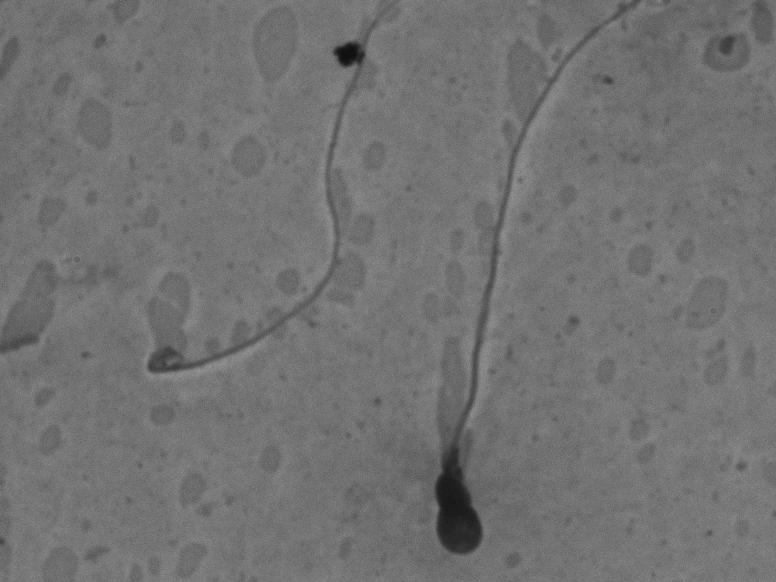Abnormal: (132, 25, 402, 395), (423, 17, 597, 562)
